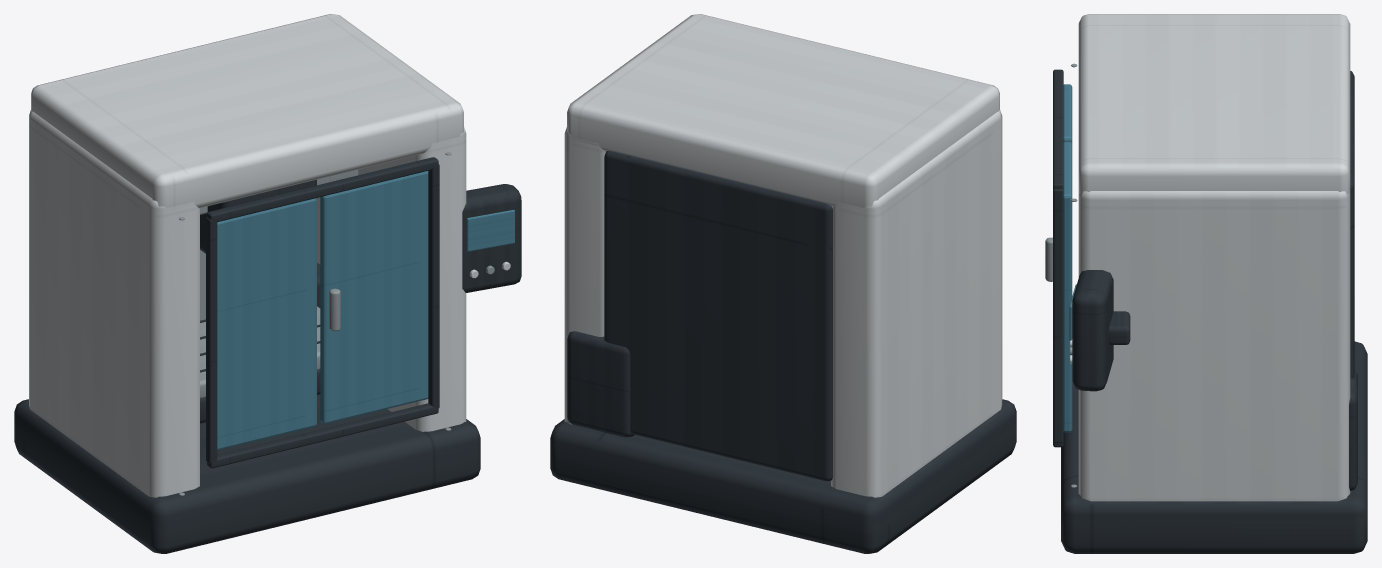
File: CNC-001.fbx
The picture shows the model from 3 angles, left to right: view 1: azimuth 30°, elevation 25°; view 2: azimuth 150°, elevation 25°; view 3: azimuth 270°, elevation 25°; orthographic projection. The views are drawn at different scales.
Visible parts, largest first — view 1: Top_Beam, Left_Cabinet, Machine_Base, Door_Glass.001, Door_Glass, Right_Cabinet, Panel_Housing, Door_Frame_Top, Door_Frame_Bottom, Door_Frame_Vert, Door_Frame_Vert.001, Panel_Screen (+2 smaller); view 2: Rear_Enclosure, Top_Beam, Left_Cabinet, Machine_Base, Right_Cabinet, Coolant_Tank; view 3: Right_Cabinet, Top_Beam, Machine_Base, Panel_Housing, Door_Frame_Vert.001, Door_Glass.001, Rear_Enclosure, Door_Frame_Top, Coolant_Tank, Panel_Arm, Door_Glass.
Part boxes in pixels (x1,y1,x2,y2): Top_Beam: (31, 14, 463, 210); Left_Cabinet: (29, 109, 199, 497); Machine_Base: (14, 394, 480, 553); Door_Glass.001: (320, 171, 428, 423); Door_Glass: (217, 198, 316, 450); Right_Cabinet: (317, 127, 466, 431); Panel_Housing: (462, 184, 521, 292); Door_Frame_Top: (207, 157, 438, 221); Door_Frame_Bottom: (207, 403, 438, 468); Door_Frame_Vert: (206, 217, 217, 463); Door_Frame_Vert.001: (428, 164, 439, 408); Panel_Screen: (467, 210, 514, 251); Rear_Enclosure: (604, 151, 832, 481); Top_Beam: (567, 14, 999, 209); Left_Cabinet: (831, 110, 1002, 497); Machine_Base: (550, 399, 1016, 553); Right_Cabinet: (564, 127, 605, 424); Coolant_Tank: (567, 331, 634, 437); Right_Cabinet: (1078, 191, 1350, 501); Top_Beam: (1078, 14, 1350, 194); Machine_Base: (1061, 341, 1367, 553); Panel_Housing: (1072, 270, 1113, 391); Door_Frame_Vert.001: (1053, 189, 1063, 442); Door_Glass.001: (1063, 142, 1072, 432); Rear_Enclosure: (1350, 71, 1354, 378); Door_Frame_Top: (1053, 69, 1063, 189); Coolant_Tank: (1349, 369, 1357, 490); Panel_Arm: (1109, 311, 1130, 344); Door_Glass: (1063, 84, 1072, 143).
Size of the model in its own units: 2.57 by 2.44 by 1.84.
